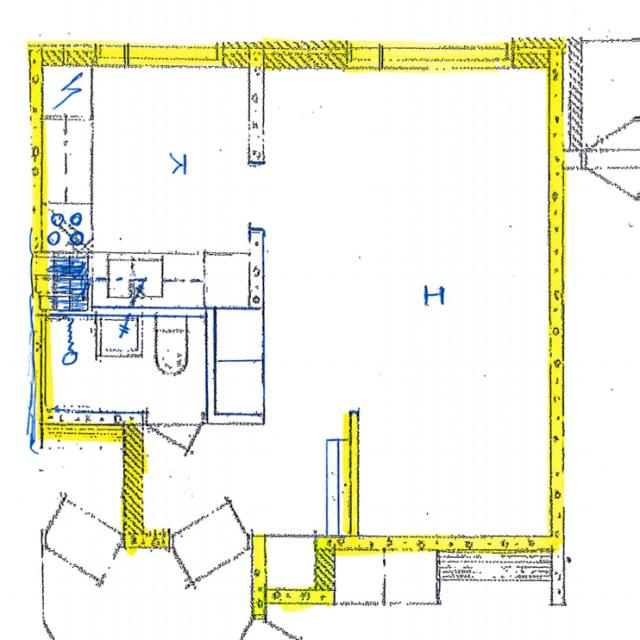door: (174, 459, 248, 549), (174, 536, 248, 626), (148, 413, 202, 481)
